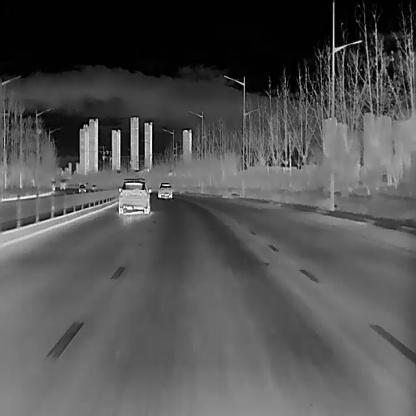car: (118, 176, 151, 213), (157, 182, 172, 198), (78, 182, 85, 192), (59, 178, 66, 188)
